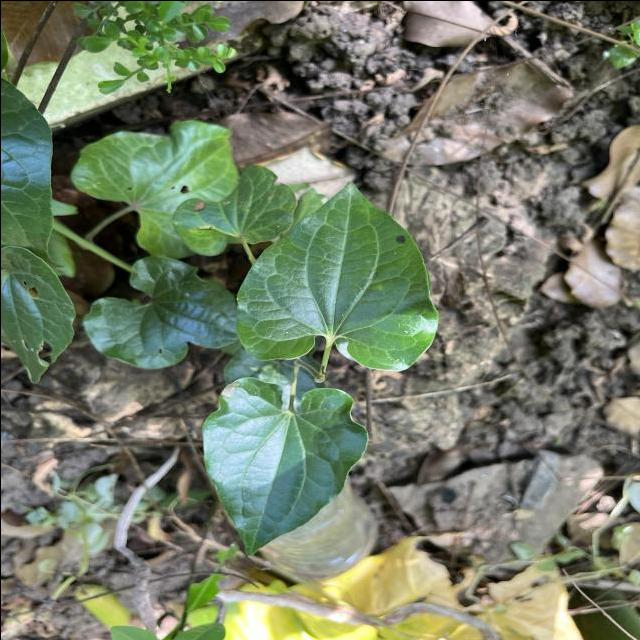Piper longum: (232, 178, 439, 372), (197, 374, 370, 561)
